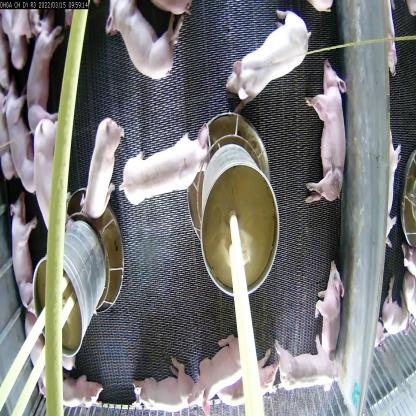Pig: (223, 7, 308, 108), (115, 127, 219, 208), (101, 0, 190, 93), (305, 53, 354, 204), (29, 114, 77, 245), (194, 324, 264, 412), (30, 347, 105, 415), (82, 115, 126, 222), (270, 334, 340, 398), (308, 250, 346, 364), (226, 346, 290, 412), (9, 206, 42, 327), (0, 91, 36, 201), (28, 15, 62, 131), (132, 353, 200, 410), (375, 272, 416, 336)
